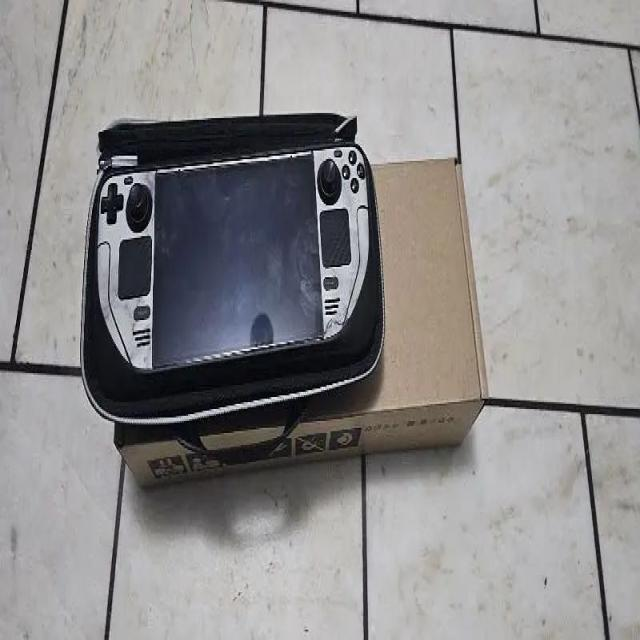electronic: (81, 109, 385, 428)
